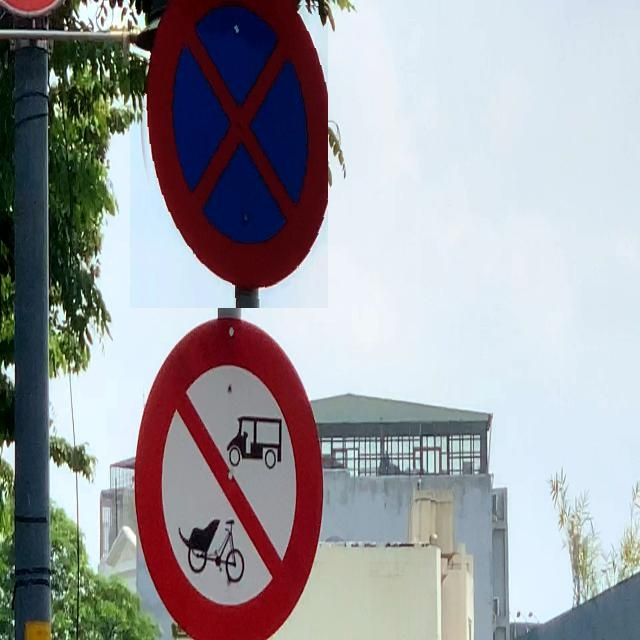bien_hieu_lenh: (130, 0, 328, 308)
